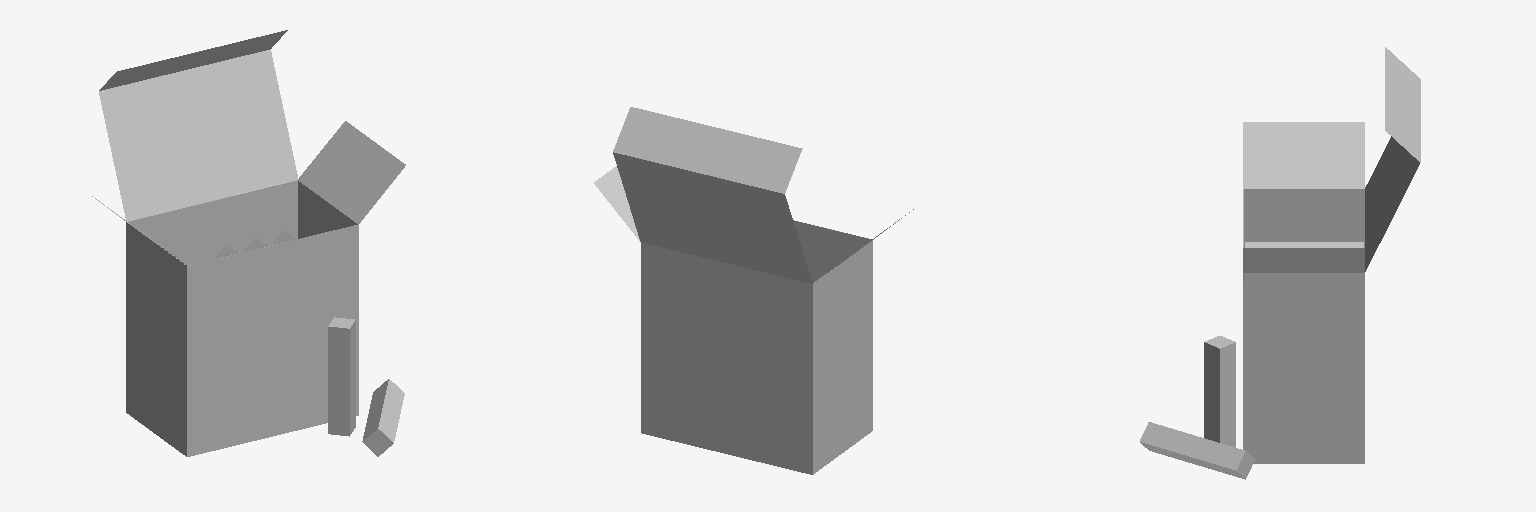
The model's file is 12g_red_240.obj.
3 renders of one model, left to right at view 1: azimuth 30°, elevation 25°; view 2: azimuth 150°, elevation 25°; view 3: azimuth 270°, elevation 25°, orthographic.
Parts seen in each view (by area): view 1: 12g_box_Green.001; view 2: 12g_box_Green.001; view 3: 12g_box_Green.001.
Part boxes in pixels (left/top/right/bottom): 12g_box_Green.001: left=92, top=30, right=405, bottom=456; 12g_box_Green.001: left=594, top=107, right=913, bottom=474; 12g_box_Green.001: left=1140, top=47, right=1420, bottom=479.
Bounding box in the file's own units: 0.4633 × 0.5599 × 0.4268.